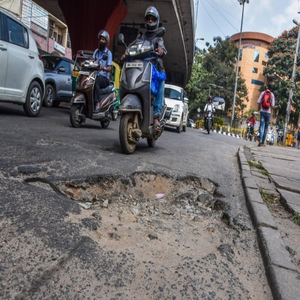pothole: (51, 166, 246, 279)
